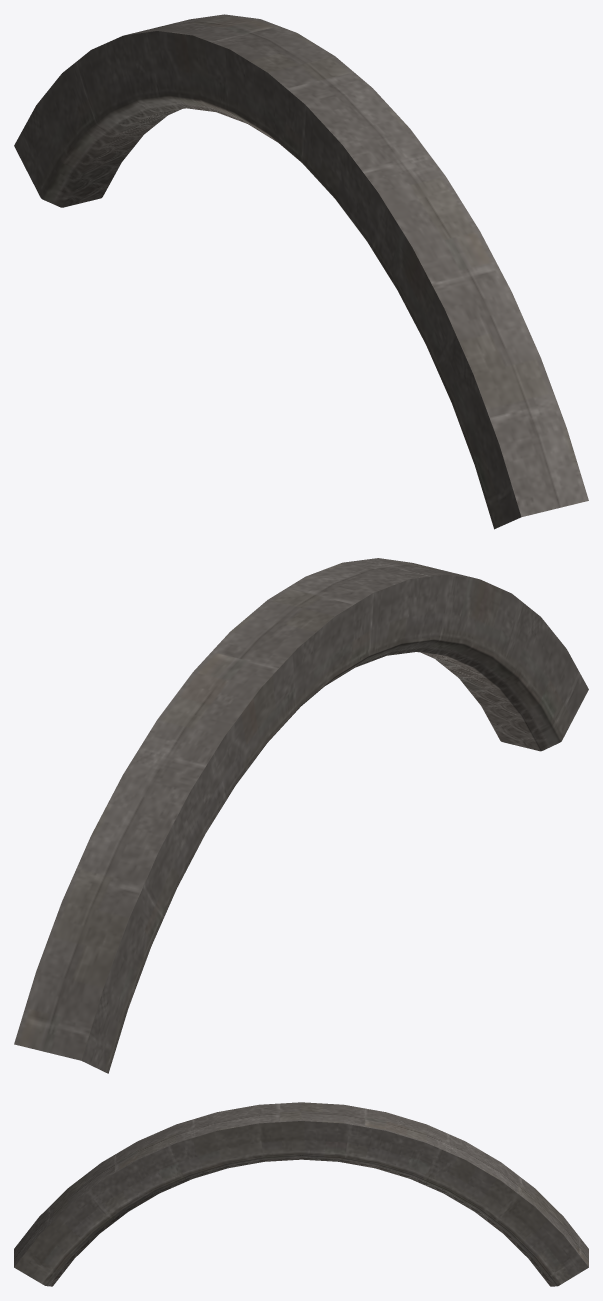
The model's file is SM_Crypt_Ceiling_Arch_A.glb.
3 views of the same model, one above another, from view 1: azimuth 30°, elevation 25°; view 2: azimuth 150°, elevation 25°; view 3: azimuth 270°, elevation 25° (orthographic). The views are drawn at different scales.
Visible parts, largest first — view 1: SM_Crypt_Ceiling_Arch_A; view 2: SM_Crypt_Ceiling_Arch_A; view 3: SM_Crypt_Ceiling_Arch_A.
Part boxes in pixels (<box>): SM_Crypt_Ceiling_Arch_A: <box>14,14,588,529</box>; SM_Crypt_Ceiling_Arch_A: <box>14,558,588,1073</box>; SM_Crypt_Ceiling_Arch_A: <box>14,1102,588,1286</box>.
Size of the model in its own units: 0.375 by 1.59 by 4.88.
Materials: 1 (1 with a texture image).
